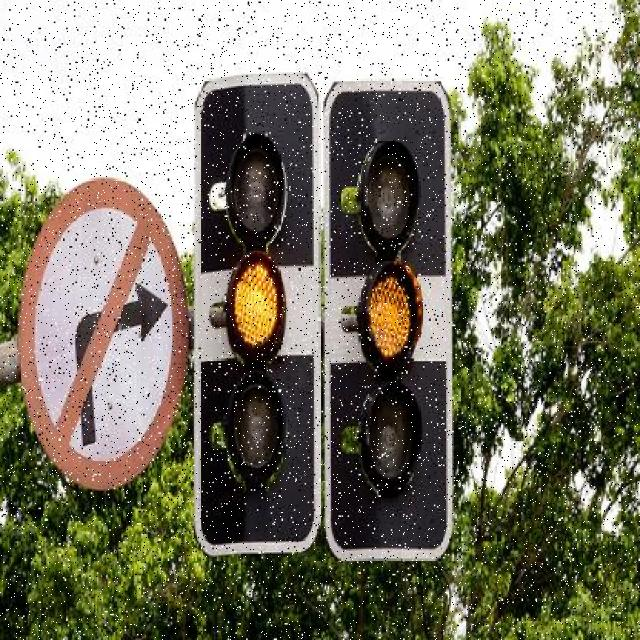yellow-light: (188, 81, 321, 566), (336, 84, 448, 558)
